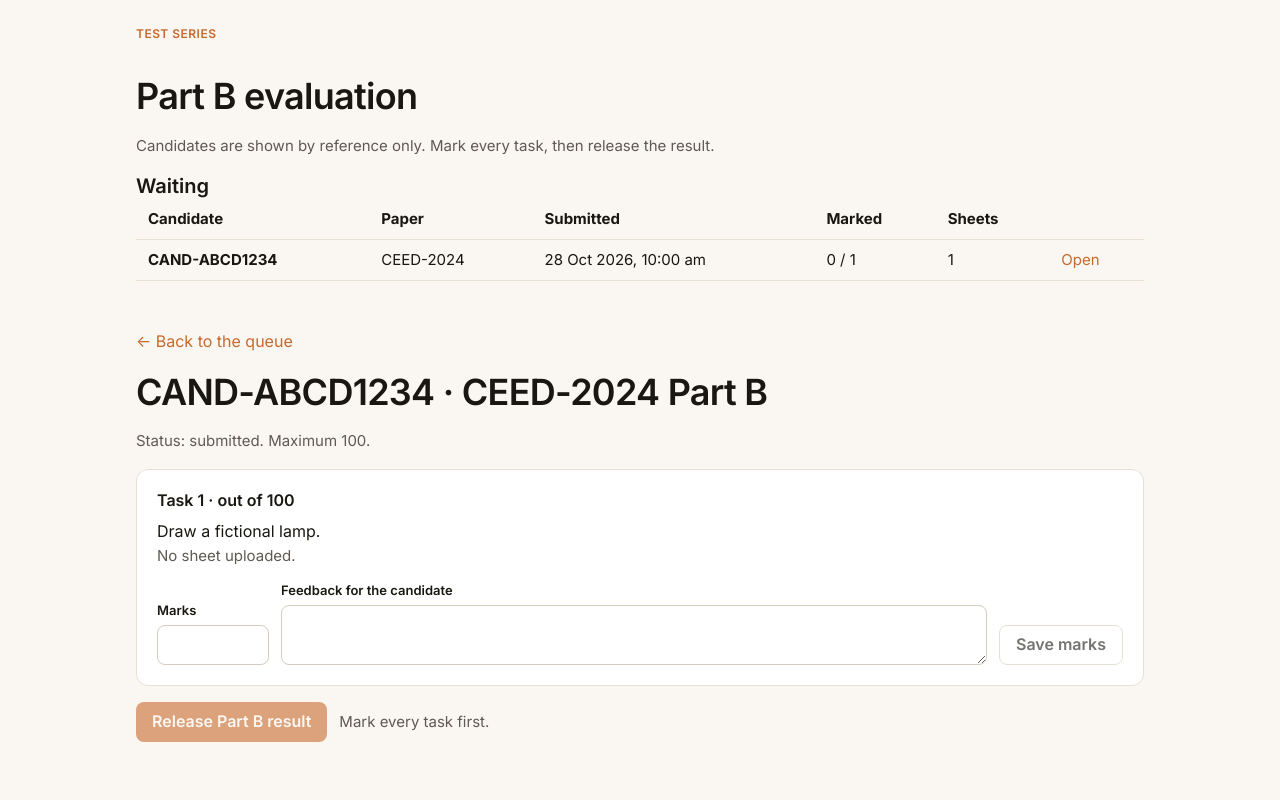
Test: Part B results and evaluation › lets an evaluator mark anonymously and release
Expected: the column heading "CAND-ABCD1234" is shown, x1=136 y1=240 x2=369 y2=281
Expected: the button "Release Part B result" is disabled, x1=136 y1=702 x2=327 y2=742
Type "120" into the number field labelled "Marks". click: (213, 645)
box: x1=157 y1=625 x2=269 y2=665
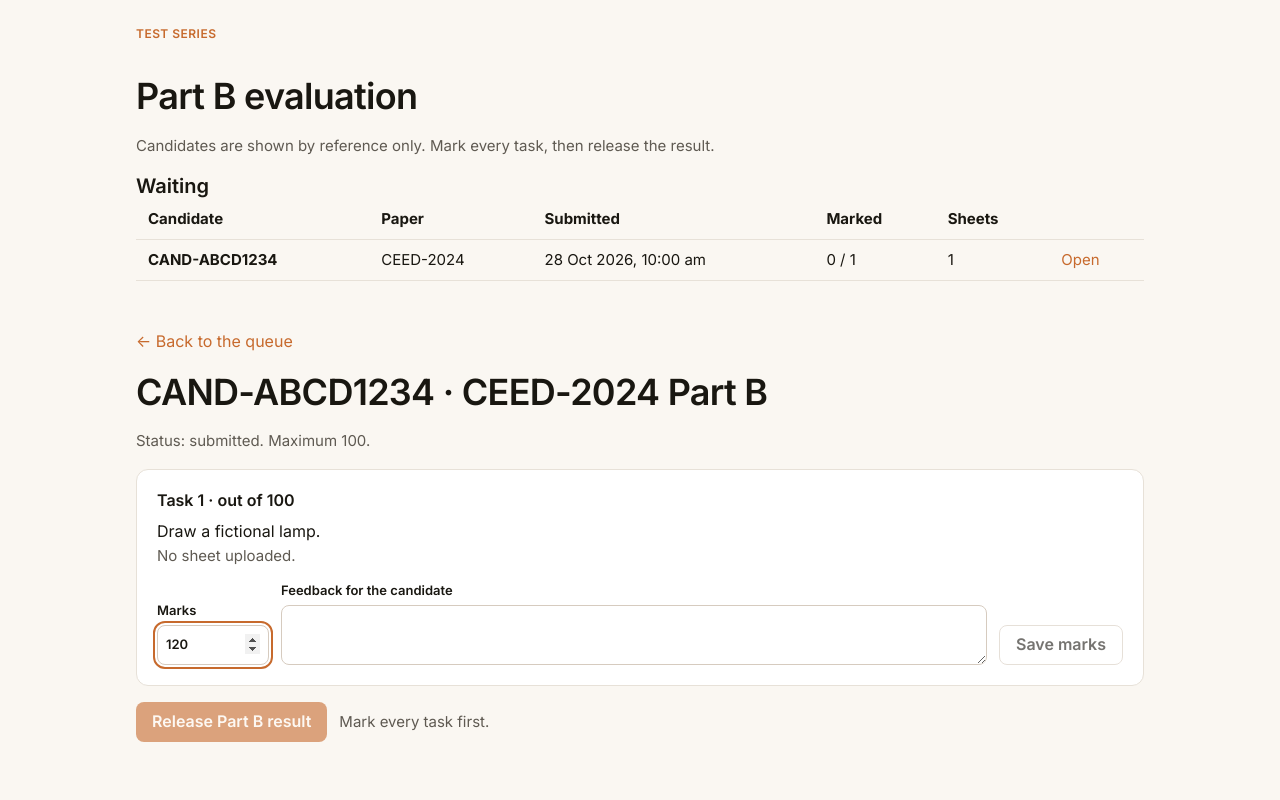
Expected: the button "Save marks" is disabled, x1=999 y1=625 x2=1123 y2=665
Replace the text in the number field labelled "Marks" with "64". click: (213, 645)
box: x1=157 y1=625 x2=269 y2=665
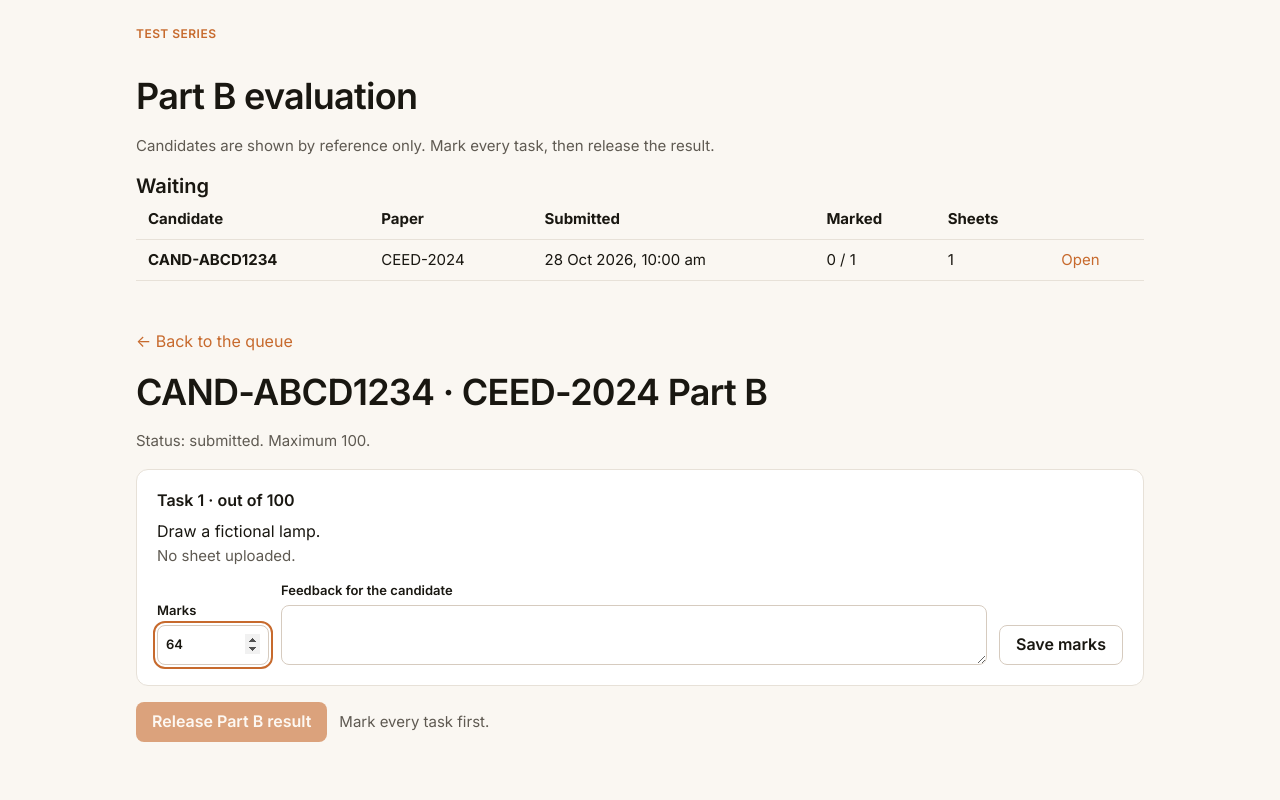
Type "Good." into the text box labelled "Feedback for the candidate". click: (634, 635)
box: x1=281 y1=605 x2=987 y2=665
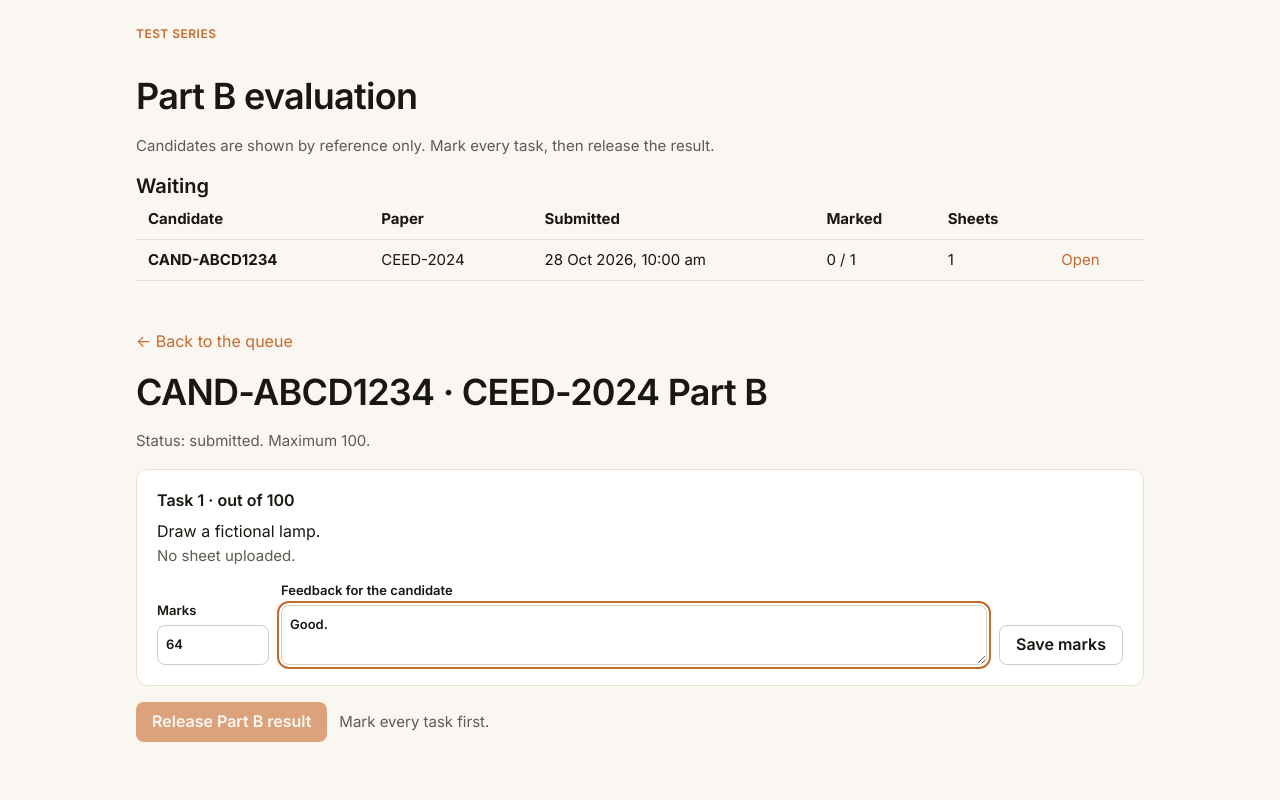
Click the button "Save marks". click: (1061, 645)
box: x1=999 y1=625 x2=1123 y2=665
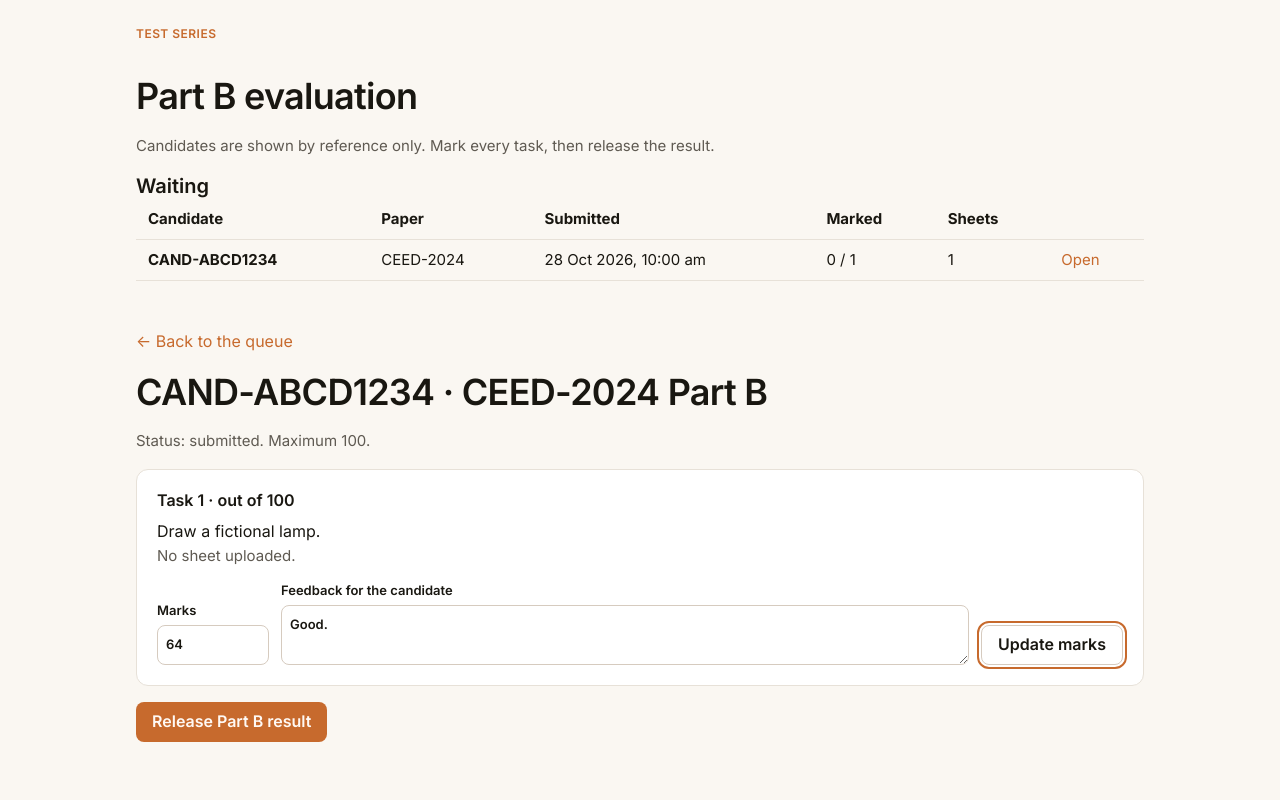
Click the button "Release Part B result". click: (232, 722)
box: x1=136 y1=702 x2=327 y2=742
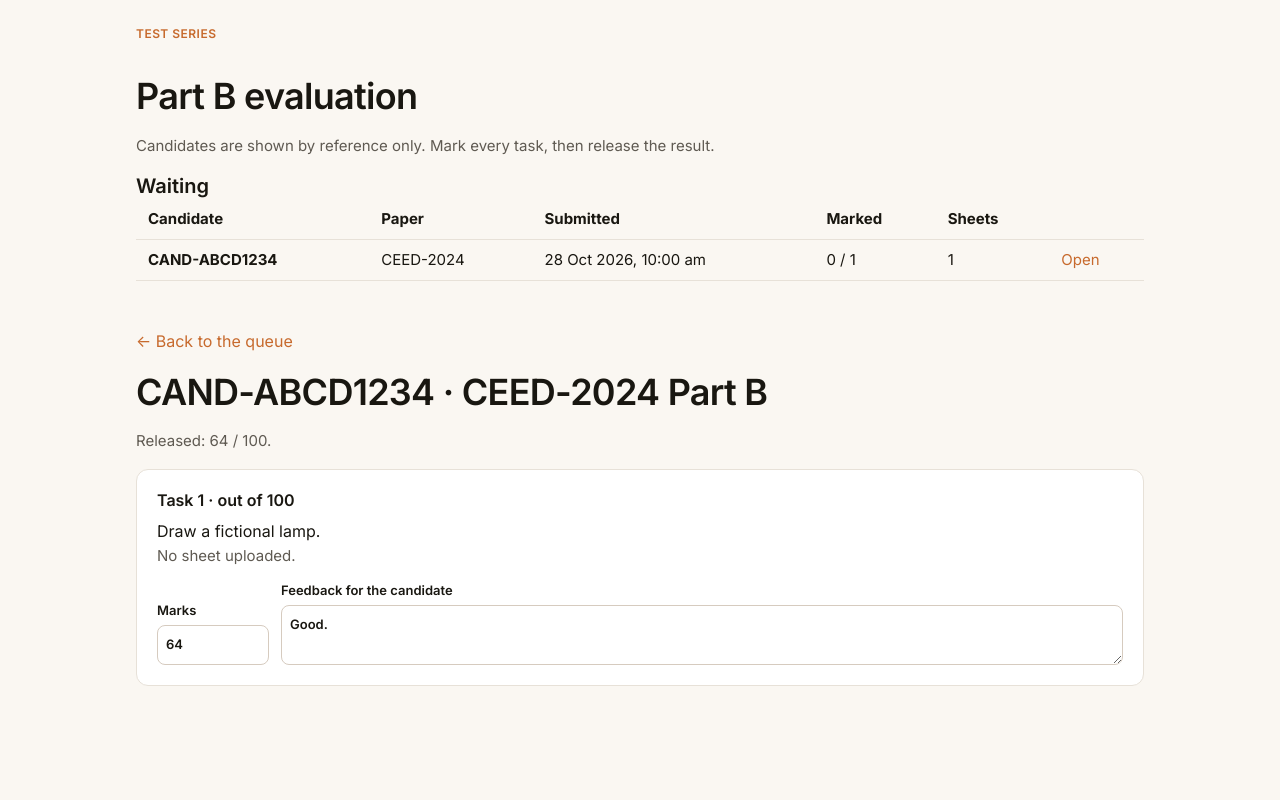
Expected: the text "Released: 64 / 100." is shown, x1=136 y1=431 x2=271 y2=450
